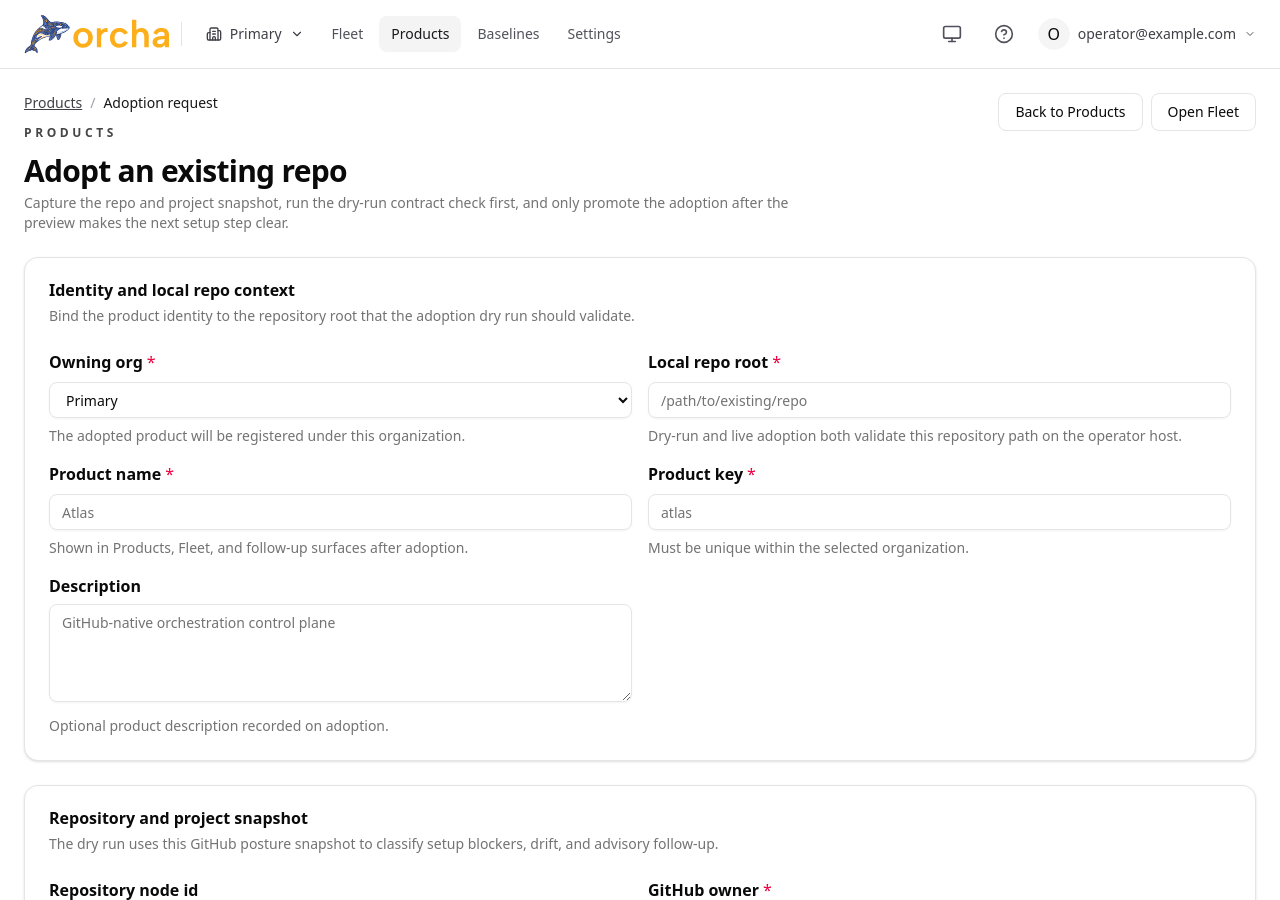
Test case: App › promotes an adoption preview into the live result surface and keeps blockers explicit
expect the heading "Adopt an existing repo" is shown: met, box [24,150,347,191]
Type "/Users/tyler/Git/aegroup/nimbus" into the field labelled "Local repo root" at (940, 400), box [648,382,1231,418]
(page scrolled)
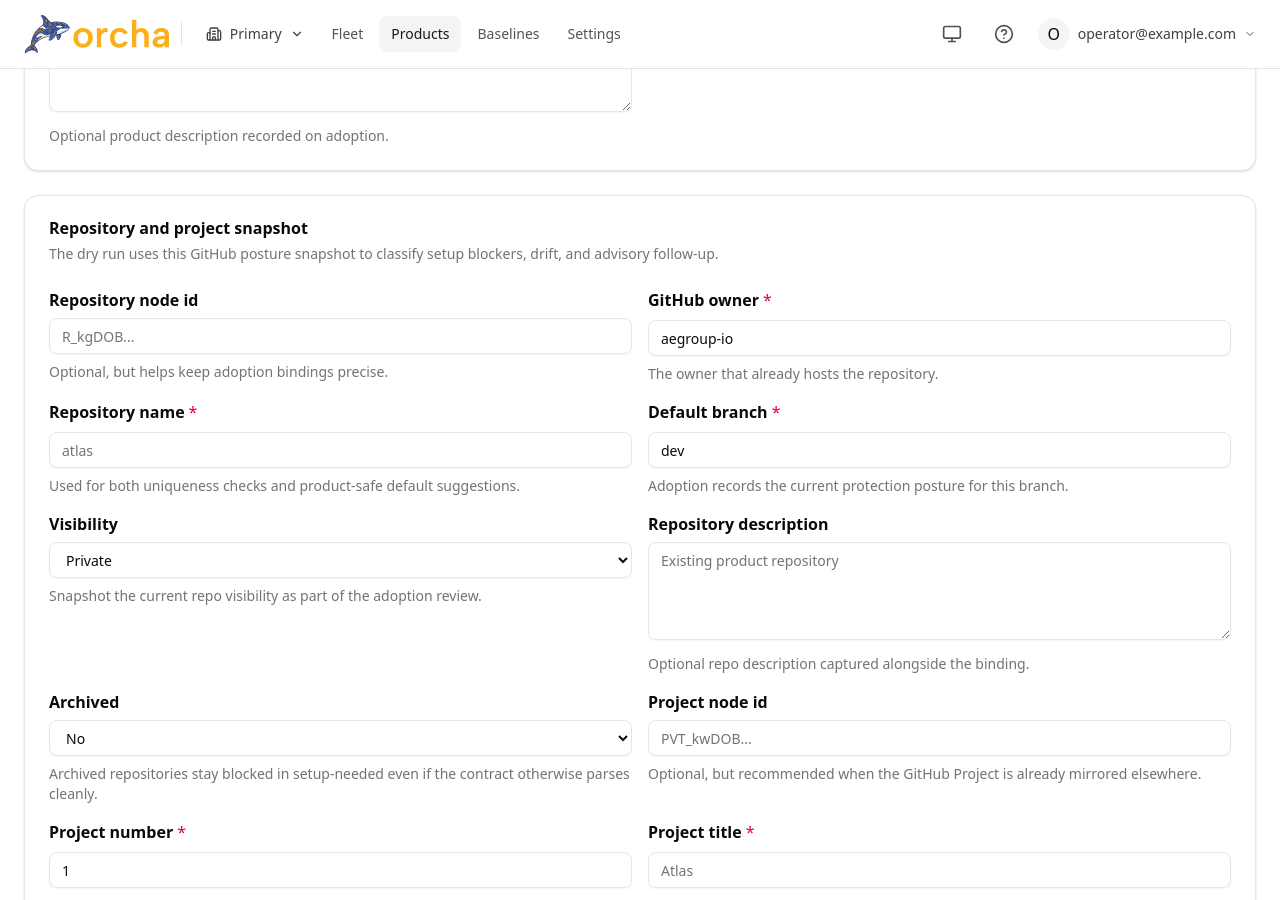
Type "nimbus" into the field labelled "Repository name" at (340, 450), box [49,432,632,468]
(page scrolled)
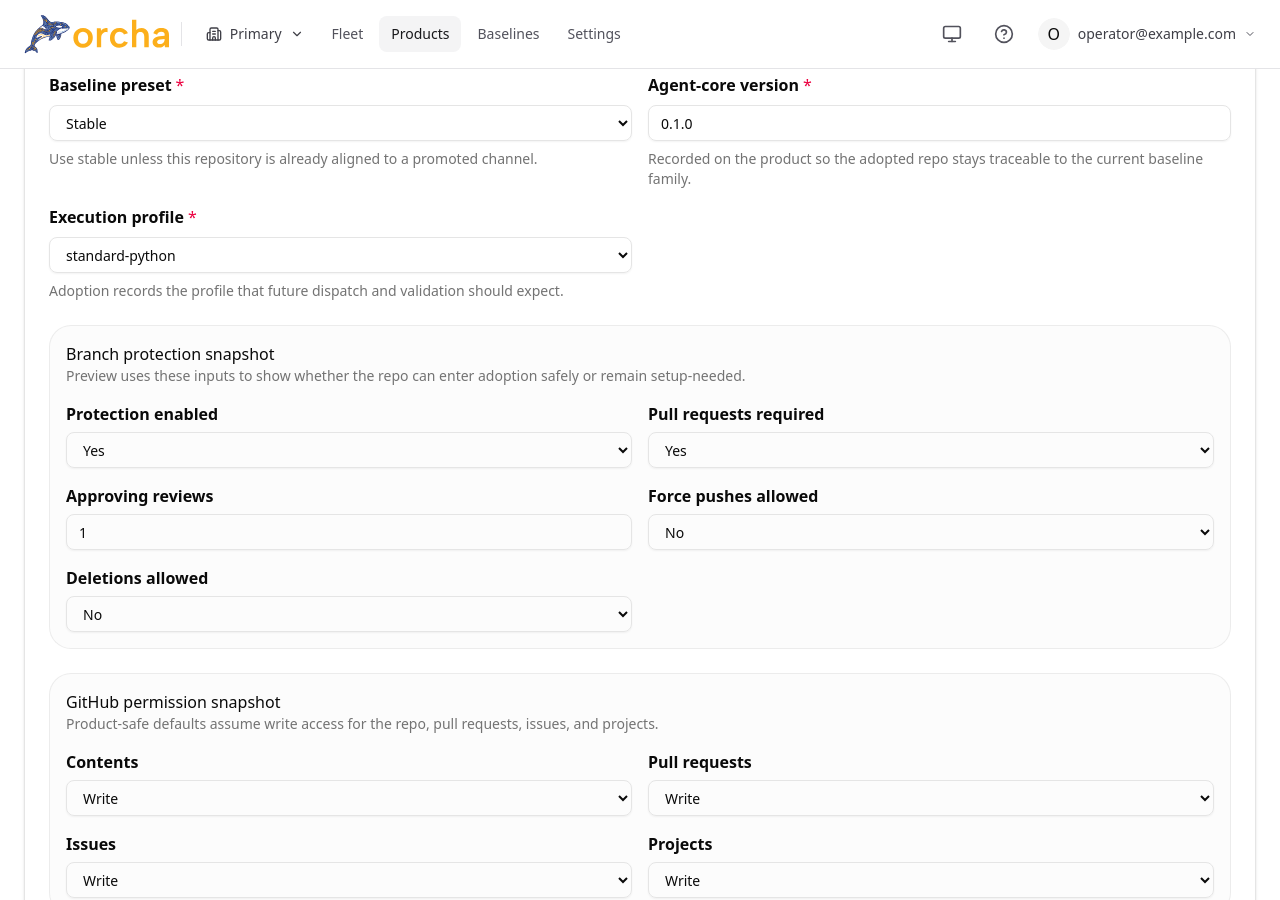
Select "No" in the dropdown labelled "Protection enabled" at (349, 450), box [66,432,632,468]
(page scrolled)
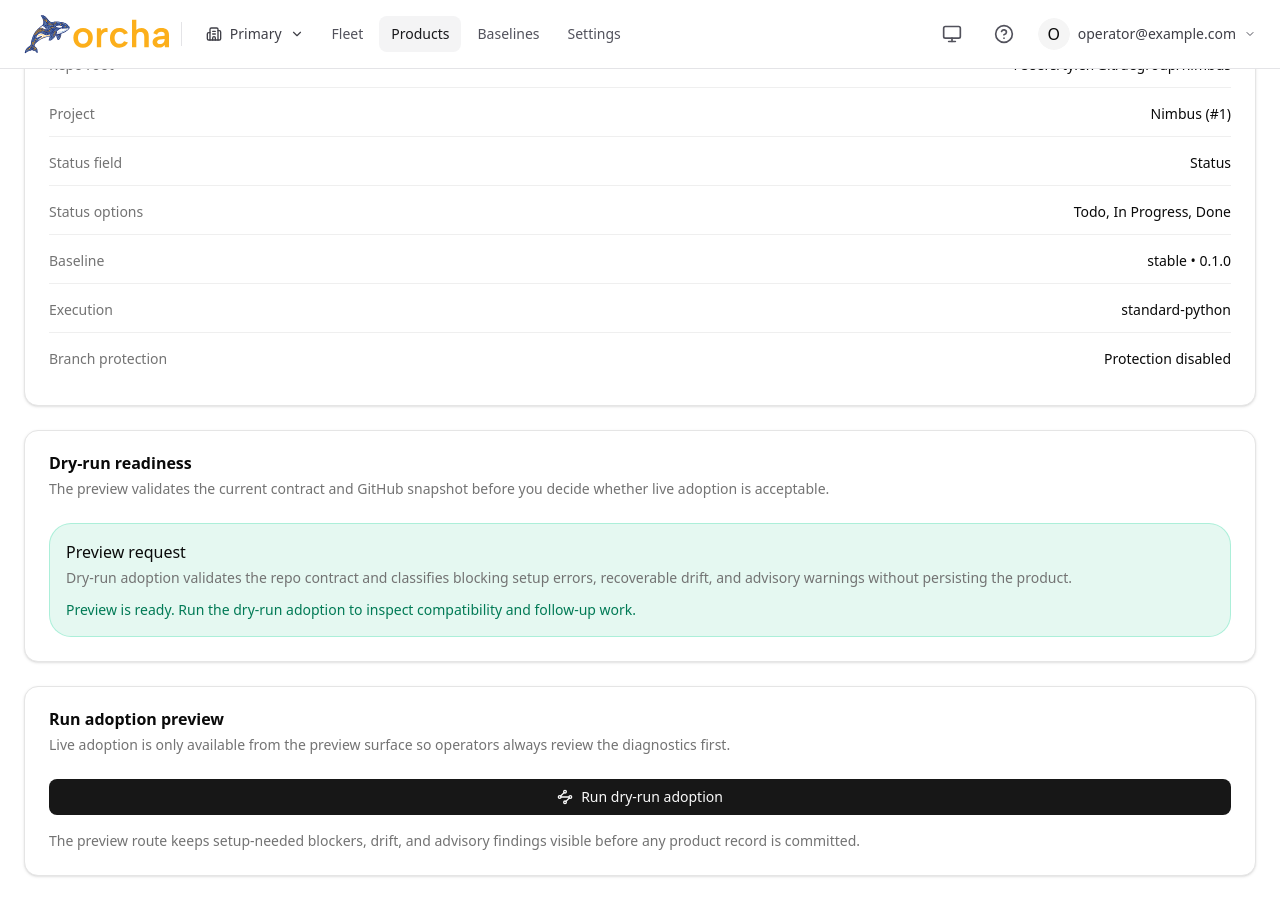
Click the button "Run dry-run adoption" at (640, 797), box [49,779,1231,815]
(page scrolled)
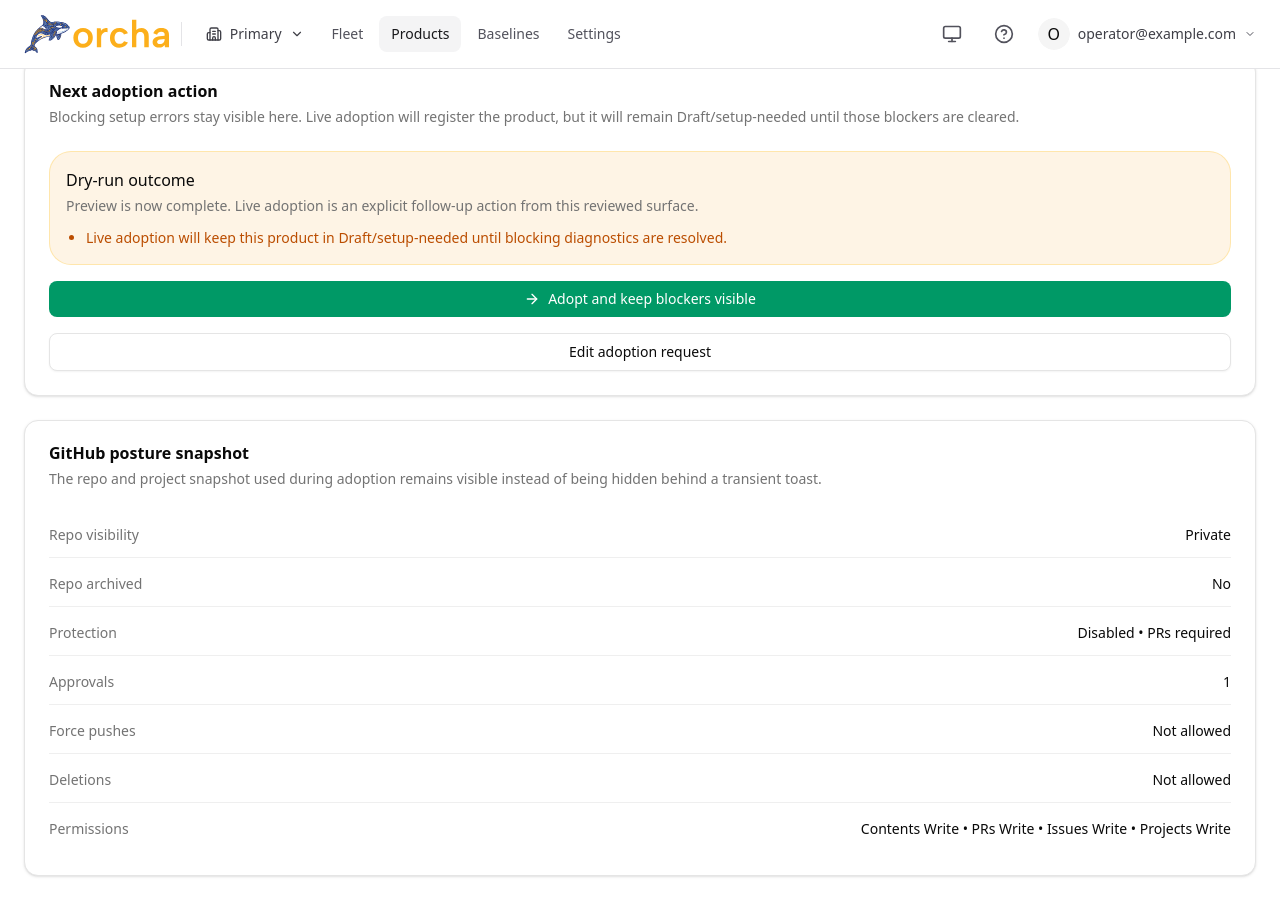
Click the button "Adopt and keep blockers visible" at (640, 299), box [49,281,1231,317]
(page scrolled)
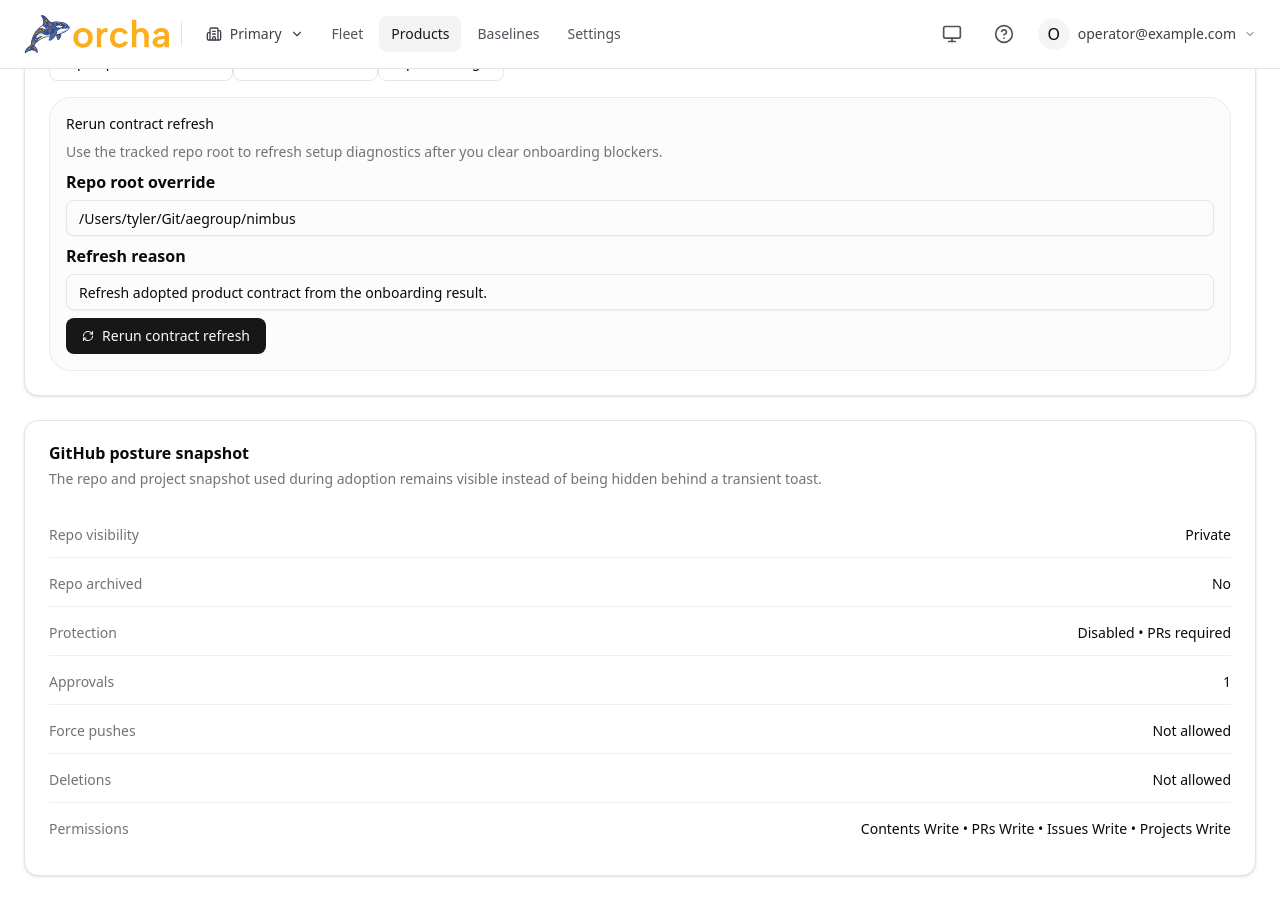
expect the link "Open product blockers" is shown: met, box [49,43,233,81]
expect the link "Review baselines" is shown: met, box [233,43,378,81]
expect the link "Open settings" is shown: met, box [378,43,504,81]
